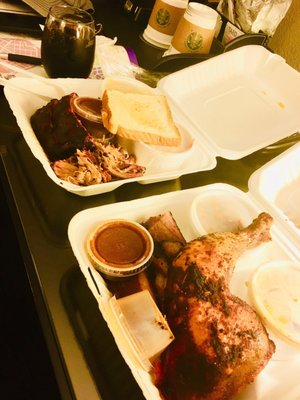pizza: (41, 1, 97, 79)
sushi: (84, 219, 154, 280)
